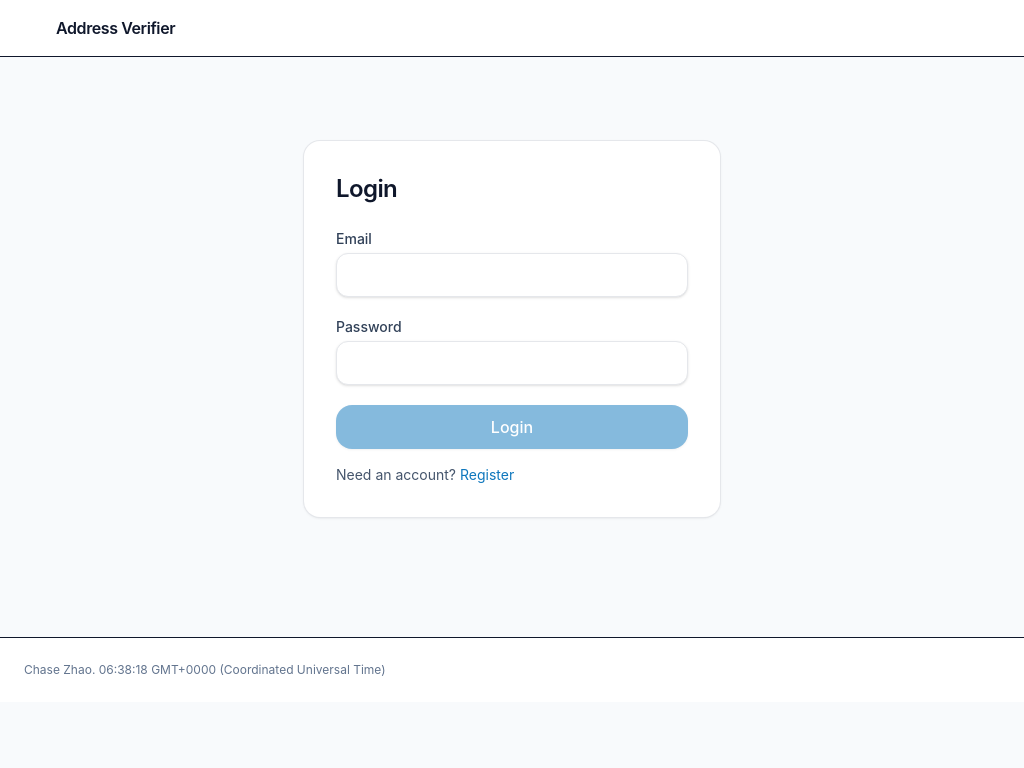
it: Authentication › fails with wrong password
This screenshot has width=1024, height=768.
In the field: (512, 275) [336,253,688,297], type "wrong@example.com"
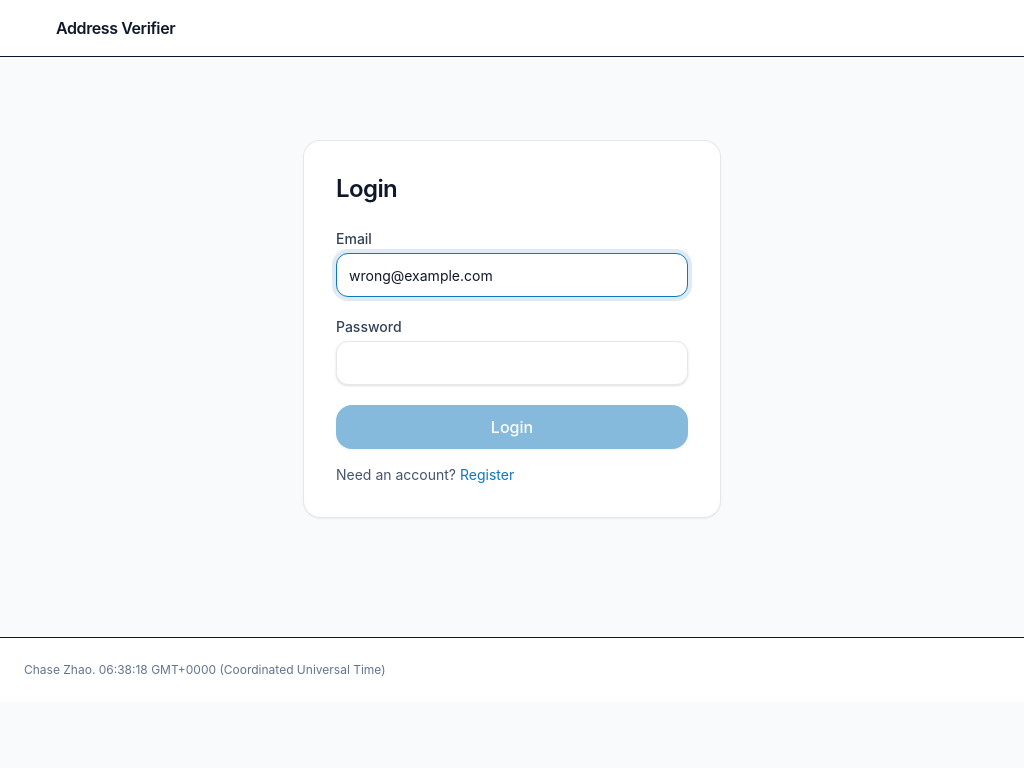
In the password field: (512, 363) [336,341,688,385], type "badpass"
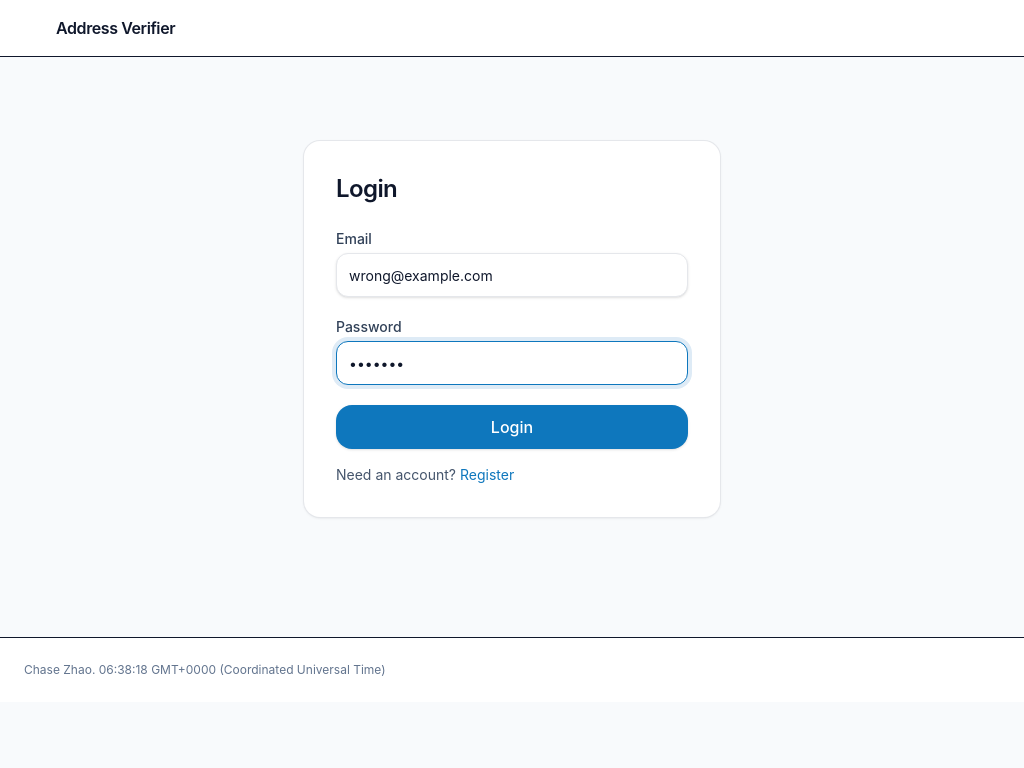
Click the button "Login": (512, 427) [336,405,688,449]
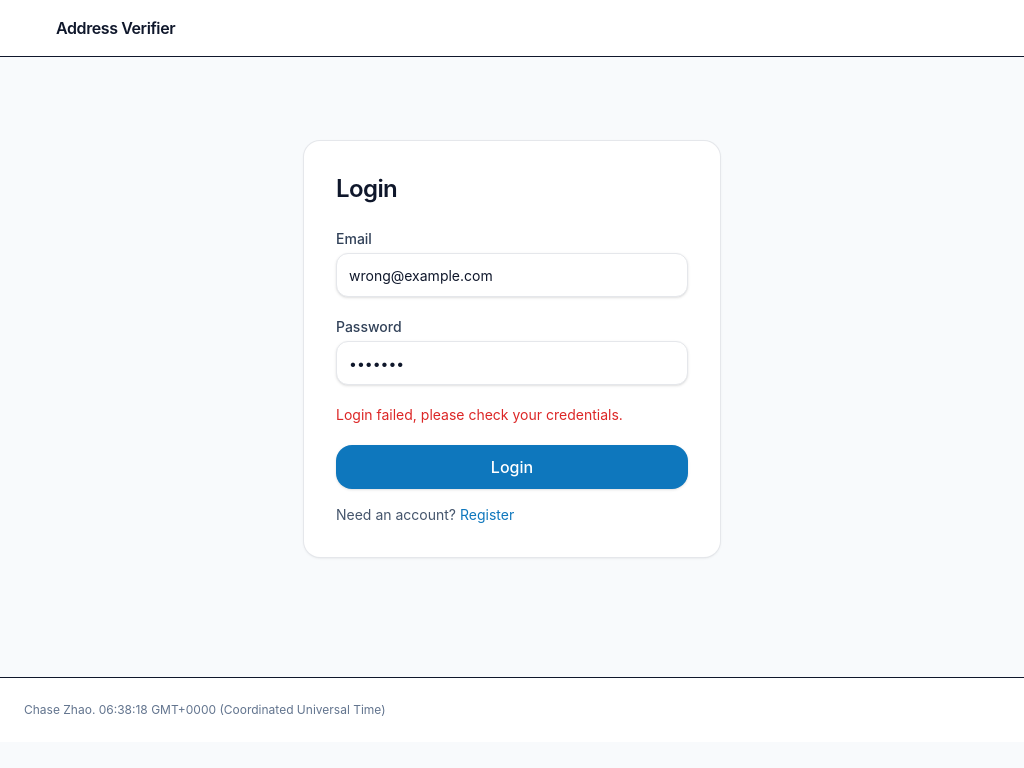
expect the text "Login failed, please check your credentials." is shown: met, box [336,406,623,423]
